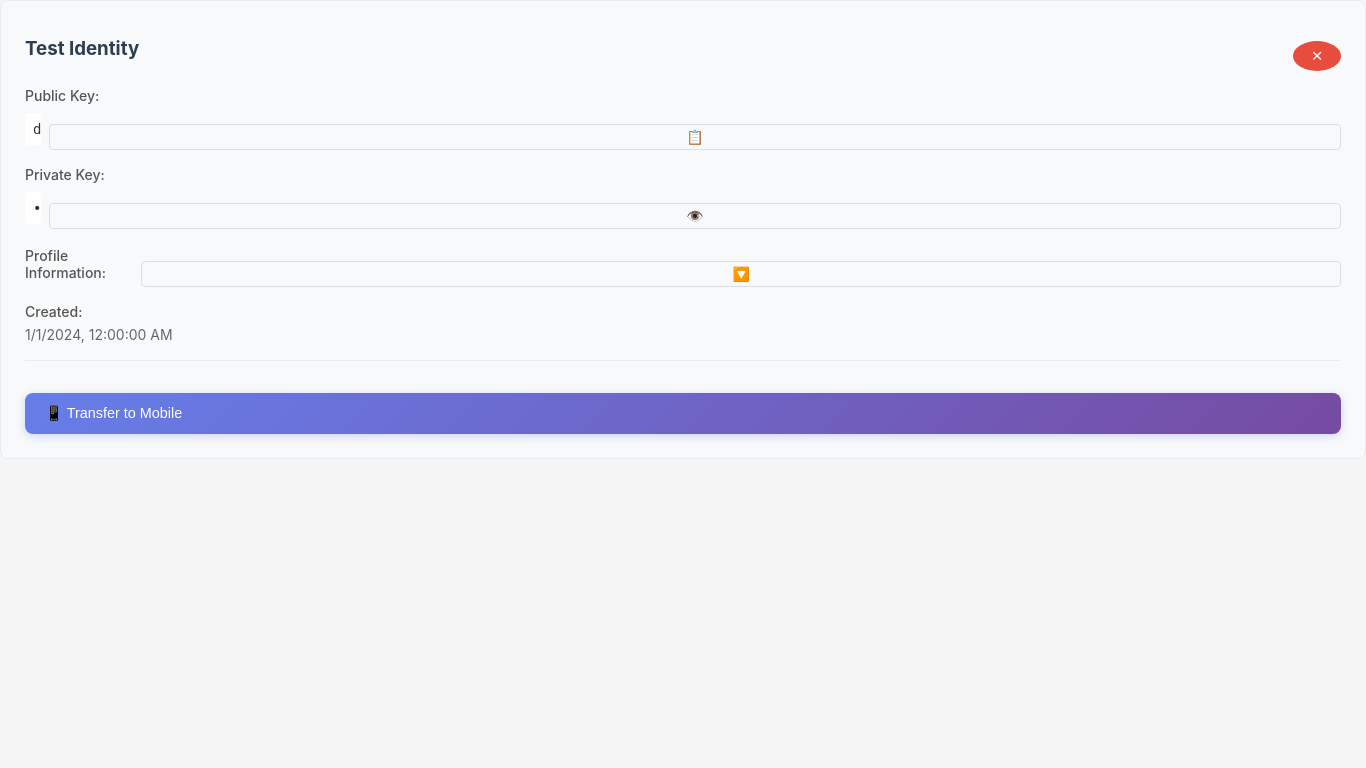
Test: IdentityCard › displays and hides profile information
Expected: the text "Profile Information:" is shown, 25,247 -> 106,281
Expected: the text "First Name:" is not shown
Click to show attributes
What coordinates should you click on to do the following:
click the button "🔽"
I would click on:
 (741, 274)
Its box is 142,261 -> 1341,287.
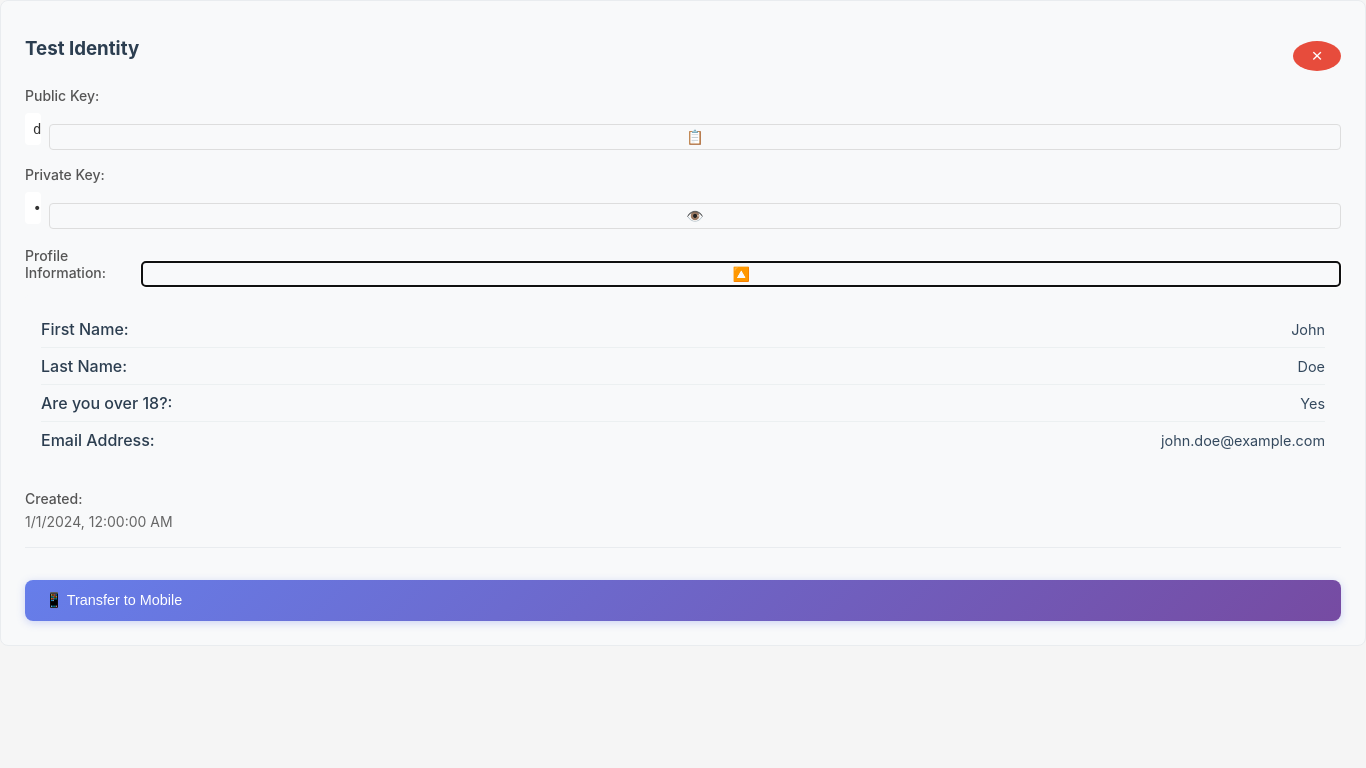
Result: the text "First Name:" is shown at 41,319 -> 129,339
Result: the text "John" is shown at 1291,320 -> 1325,338
Result: the text "Last Name:" is shown at 41,356 -> 127,376
Click to hide attributes
What coordinates should you click on to do the following:
click the button "🔼"
I would click on:
 (741, 274)
Its box is 142,261 -> 1341,287.
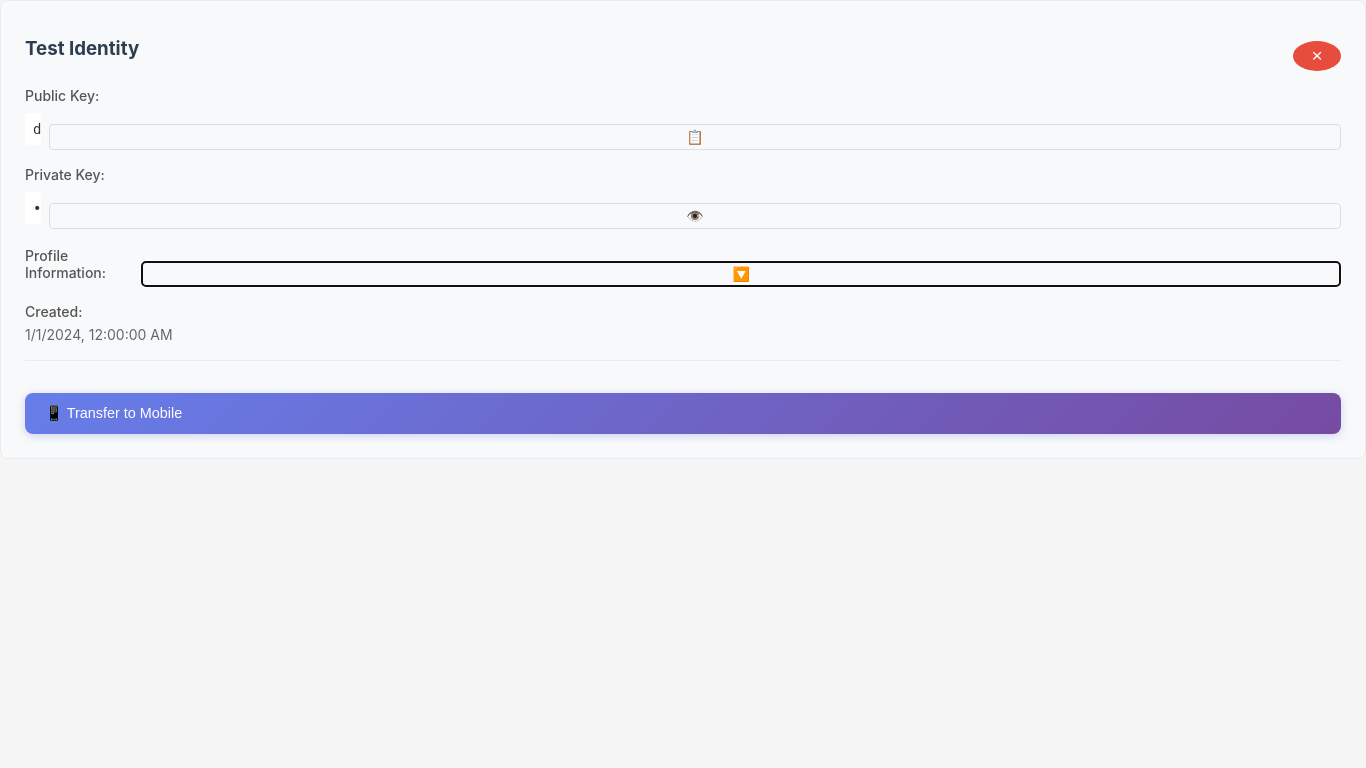
Result: the text "First Name:" is gone
